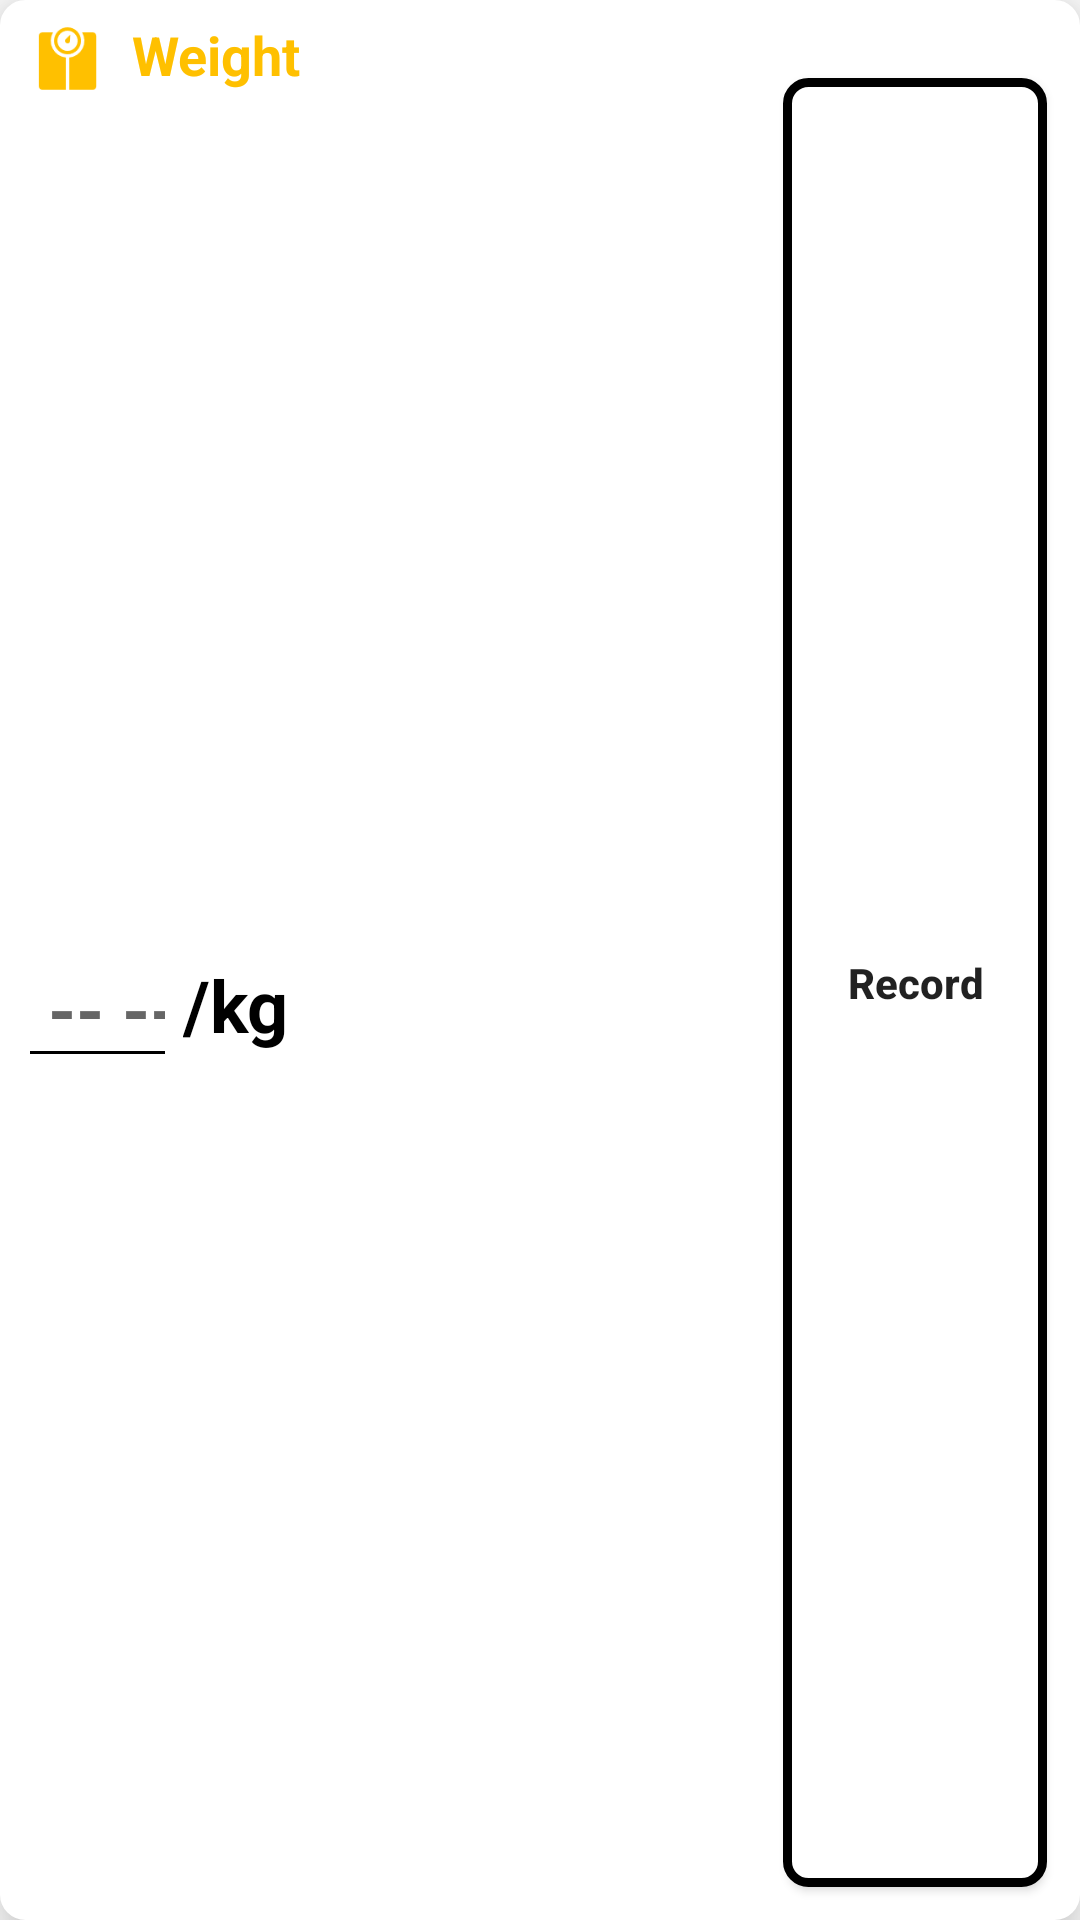

Named icons in this screenshot (1080w x 1920h) and their centers, point (x, y):
scale: point (67, 58)
